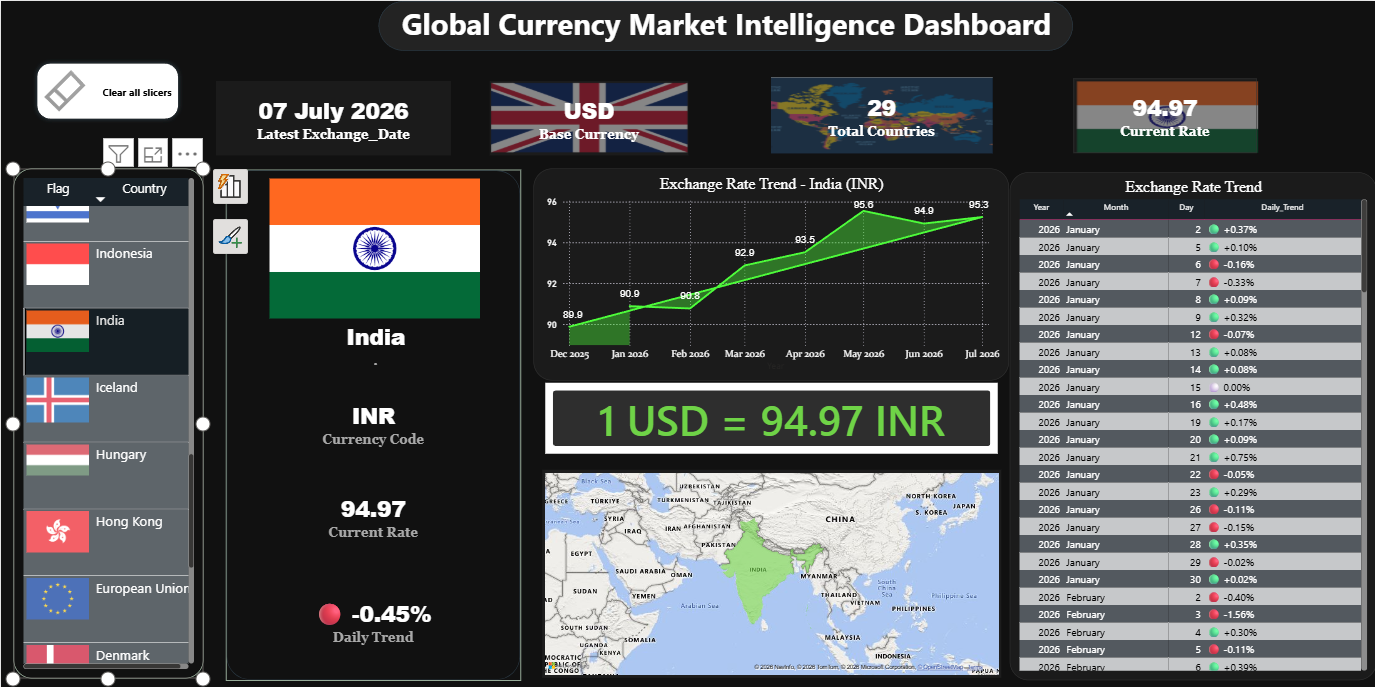

This screenshot's page, from the dashboard's own definition file:
{"tool":"powerbi","page":{"name":"Page 1","canvas":[2200,1100],"ordinal":0},"visuals":[{"type":"image","box":[1232.6,121.7,354.3,121.7],"z":0},{"type":"image","box":[1717.4,128.3,293.5,115.2],"z":1000},{"type":"tableEx","title":"Exchange Rate Trend","fields":{"Values":["Rates.Exchange_Date.Variation.Date Hierarchy.Year","Rates.Exchange_Date.Variation.Date Hierarchy.Month","Rates.Exchange_Date.Variation.Date Hierarchy.Day","Rates.Daily_Trend"]},"box":[1613,273.9,587,813],"z":2000},{"type":"image","box":[784.8,128.3,315.2,115.2],"z":3000},{"type":"card","fields":{"Values":["Rates.India Current Rate"]},"box":[1715.2,123.9,293.5,119.6],"z":4000},{"type":"shape","box":[360.9,269.6,471.7,817.4],"z":5000},{"type":"card","fields":{"Values":["Min(Rates.Base_Currency)"]},"box":[782.6,128.3,317.4,119.6],"z":6000},{"type":"card","fields":{"Values":["Rates.Total Countries"]},"box":[1232.6,121.7,354.3,121.7],"z":7000},{"type":"shape","box":[603.7,0,1111.1,79.6],"z":8000},{"type":"textbox","title":"Global Currency Market Intelligence Dashboard","box":[606,4,1110,72],"z":9000},{"type":"card","fields":{"Values":["Max(Rates.Exchange_Date)"]},"box":[343.5,128.3,376.1,119.6],"z":10000},{"type":"tableEx","fields":{"Values":["Country.Flag_URL","Country.Country"]},"box":[20,268,304,816],"z":11000},{"type":"card","fields":{"Values":["Country.Selected Currency Code"]},"box":[410.9,600,371.7,150],"z":12000},{"type":"card","fields":{"Values":["Country.Selected Country"]},"box":[413,491.3,371.7,115.2],"z":13000},{"type":"card","fields":{"Values":["Rates.Current Rate"]},"box":[410.9,750,371.7,150],"z":14000},{"type":"card","fields":{"Values":["Rates.Daily Trend"]},"box":[410.9,917.4,371.7,150],"z":15000},{"type":"areaChart","fields":{"Category":["Rates.Exchange_Date.Variation.Date Hierarchy.Year","Rates.Exchange_Date.Variation.Date Hierarchy.Month","Rates.Exchange_Date.Variation.Date Hierarchy.Day"],"Y":["Avg(Rates.Current Exchange_Rate)"]},"box":[852.2,267.4,760.9,339.1],"z":16000},{"type":"actionButton","box":[50,91.3,241.3,104.3],"z":17000},{"type":"image","box":[384.8,284.8,428.3,223.9],"z":18000},{"type":"filledMap","fields":{"Category":["Rates.country_name"]},"box":[865.2,750,734.8,332.6],"z":19000},{"type":"cardVisual","fields":{"Data":["Rates.Exchange Summary"]},"box":[865.2,606.5,734.8,123.9],"z":20000}]}

Visuals, with their boxes in screenshot pixels (x1, y1, x2, y2), scaled from the page's 2200x1100 canvas onto the 1375x687 screenshot:
image: select_region(770, 76, 992, 152)
image: select_region(1073, 80, 1257, 152)
"Exchange Rate Trend" tableEx: select_region(1008, 171, 1374, 679)
image: select_region(490, 80, 688, 152)
card - Rates.India Current Rate: select_region(1072, 77, 1255, 152)
shape: select_region(226, 168, 520, 679)
card - Min(Rates.Base_Currency): select_region(489, 80, 688, 155)
card - Rates.Total Countries: select_region(770, 76, 992, 152)
shape: select_region(377, 0, 1072, 50)
"Global Currency Market Intelligence Dashboard" textbox: select_region(379, 2, 1072, 47)
card - Max(Rates.Exchange_Date): select_region(215, 80, 450, 155)
tableEx - Country.Flag_URL x Country.Country: select_region(12, 167, 202, 677)
card - Country.Selected Currency Code: select_region(257, 375, 489, 468)
card - Country.Selected Country: select_region(258, 307, 490, 379)
card - Rates.Current Rate: select_region(257, 468, 489, 562)
card - Rates.Daily Trend: select_region(257, 573, 489, 667)
areaChart - Rates.Exchange_Date.Variation.Date Hierarchy.Year x Rates.Exchange_Date.Variation.Date Hierarchy.Month: select_region(533, 167, 1008, 379)
actionButton: select_region(31, 57, 182, 122)
image: select_region(240, 178, 508, 318)
filledMap - Rates.country_name: select_region(541, 468, 1000, 676)
cardVisual - Rates.Exchange Summary: select_region(541, 379, 1000, 456)
